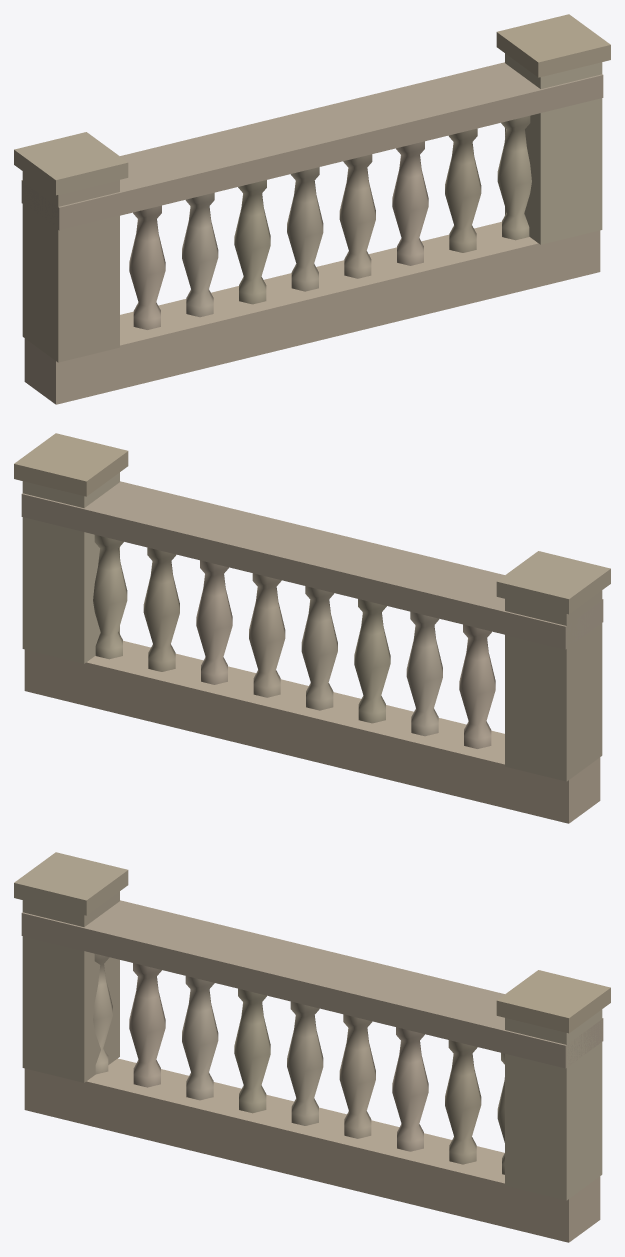
Rendered from balaustrada.glb.
The picture shows the model from 3 angles, top to bottom: view 1: azimuth 30°, elevation 25°; view 2: azimuth 150°, elevation 25°; view 3: azimuth 330°, elevation 25°; orthographic projection.
Visible parts, largest first — view 1: balaustrada_fijo; view 2: balaustrada_fijo; view 3: balaustrada_fijo.
Part boxes in pixels (x1,y1,x2,y2): balaustrada_fijo: (14,14,610,404); balaustrada_fijo: (14,433,610,823); balaustrada_fijo: (14,852,610,1242).
Bounding box in the file's own units: 3.06 × 1.21 × 0.4.
